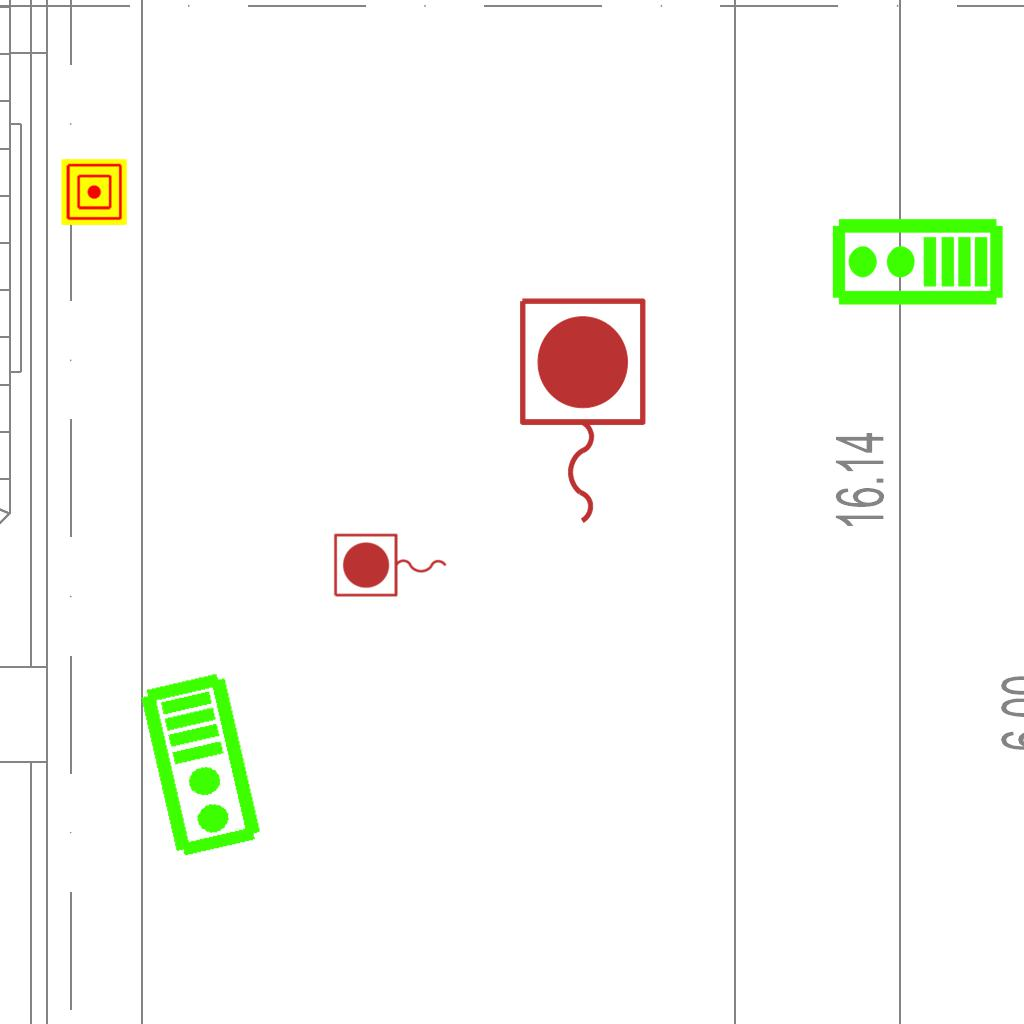Gegensprechanlage_mit_Video: (136, 668, 269, 862), (829, 216, 1005, 311)
NAM-Nichtautomatischer_Melder: (61, 159, 127, 225)
Zugtaster: (509, 290, 653, 534), (330, 530, 452, 602)
